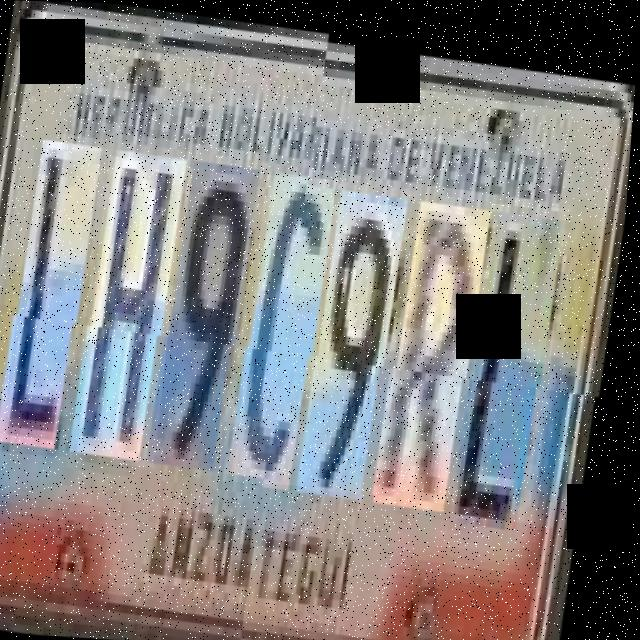9: (158, 164, 263, 475), (310, 181, 415, 492)
C: (240, 173, 341, 484)
H: (82, 154, 189, 466)
L: (464, 200, 570, 519), (8, 146, 105, 456)
R: (387, 190, 495, 502)
